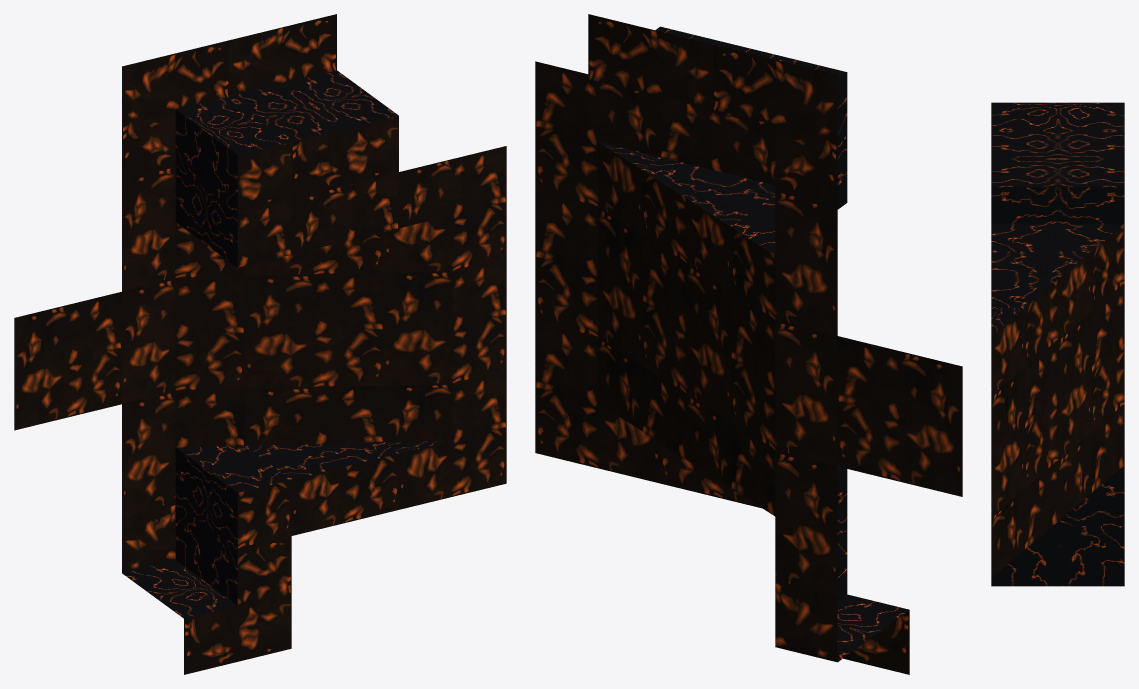
Rendered from SimpleTileSet.gltf.
3 renders of one model, left to right at view 1: azimuth 30°, elevation 25°; view 2: azimuth 150°, elevation 25°; view 3: azimuth 270°, elevation 25°, orthographic. The views are drawn at different scales.
Parts seen in each view (by area): view 1: RightSlopeFront_Lod1, OuterCorner_Lod1, InnerCorner_Lod1, Wall_Lod1, RightSlopeMiddle_Lod1, MidSlopeMiddle_Lod1, LeftSlopeFront_Lod1, MidSlopeTop_Lod1, MidSlopeFront_Lod1, RightSlopeTop_Lod1, LeftSlopeTop_Lod1, Floor_Lod1 (+1 smaller); view 2: LeftSlopeMiddle_Lod1, Floor_Lod1, LeftSlopeTop_Lod1, RightSlopeTop_Lod1, MidSlopeTop_Lod1, MidSlopeFront_Lod1, OuterCorner_Lod1, LeftSlopeFront_Lod1, RightSlopeFront_Lod1, MidSlopeMiddle_Lod1, InnerCorner_Lod1, Wall_Lod1 (+1 smaller); view 3: LeftSlopeFront_Lod1, MidSlopeMiddle_Lod1, LeftSlopeMiddle_Lod1, Wall_Lod1, InnerCorner_Lod1, RightSlopeFront_Lod1, RightSlopeMiddle_Lod1, MidSlopeTop_Lod1, MidSlopeFront_Lod1, OuterCorner_Lod1, LeftSlopeTop_Lod1, RightSlopeTop_Lod1.
Boxes of the visible parts, left/top/right/bottom form: RightSlopeFront_Lod1: left=122, top=389, right=291, bottom=548; OuterCorner_Lod1: left=122, top=40, right=291, bottom=211; InnerCorner_Lod1: left=122, top=504, right=291, bottom=674; Wall_Lod1: left=229, top=14, right=398, bottom=197; RightSlopeMiddle_Lod1: left=245, top=386, right=398, bottom=535; MidSlopeMiddle_Lod1: left=245, top=273, right=383, bottom=389; LeftSlopeFront_Lod1: left=122, top=166, right=291, bottom=291; MidSlopeTop_Lod1: left=383, top=258, right=506, bottom=385; MidSlopeFront_Lod1: left=122, top=277, right=244, bottom=403; RightSlopeTop_Lod1: left=383, top=371, right=506, bottom=509; LeftSlopeTop_Lod1: left=383, top=146, right=506, bottom=273; Floor_Lod1: left=14, top=291, right=121, bottom=430; LeftSlopeMiddle_Lod1: left=642, top=97, right=775, bottom=291; Floor_Lod1: left=837, top=336, right=962, bottom=496; LeftSlopeTop_Lod1: left=535, top=61, right=660, bottom=235; RightSlopeTop_Lod1: left=535, top=322, right=660, bottom=483; MidSlopeTop_Lod1: left=535, top=192, right=642, bottom=365; MidSlopeFront_Lod1: left=731, top=292, right=837, bottom=466; OuterCorner_Lod1: left=713, top=44, right=847, bottom=205; LeftSlopeFront_Lod1: left=731, top=138, right=847, bottom=335; RightSlopeFront_Lod1: left=731, top=423, right=847, bottom=596; MidSlopeMiddle_Lod1: left=642, top=236, right=730, bottom=422; InnerCorner_Lod1: left=775, top=529, right=909, bottom=674; Wall_Lod1: left=588, top=14, right=784, bottom=109; LeftSlopeFront_Lod1: left=991, top=187, right=1124, bottom=311; MidSlopeMiddle_Lod1: left=1024, top=312, right=1091, bottom=488; LeftSlopeMiddle_Lod1: left=991, top=251, right=1091, bottom=367; Wall_Lod1: left=991, top=131, right=1124, bottom=187; InnerCorner_Lod1: left=991, top=526, right=1124, bottom=586; RightSlopeFront_Lod1: left=1053, top=405, right=1124, bottom=525; RightSlopeMiddle_Lod1: left=1024, top=433, right=1091, bottom=549; MidSlopeTop_Lod1: left=991, top=369, right=1024, bottom=517; MidSlopeFront_Lod1: left=1091, top=284, right=1124, bottom=432; OuterCorner_Lod1: left=991, top=102, right=1124, bottom=130; LeftSlopeTop_Lod1: left=991, top=308, right=1024, bottom=396; RightSlopeTop_Lod1: left=991, top=490, right=1024, bottom=577.
Size of the model in its own units: 8 by 10 by 2.
13 materials, 13 textured.
